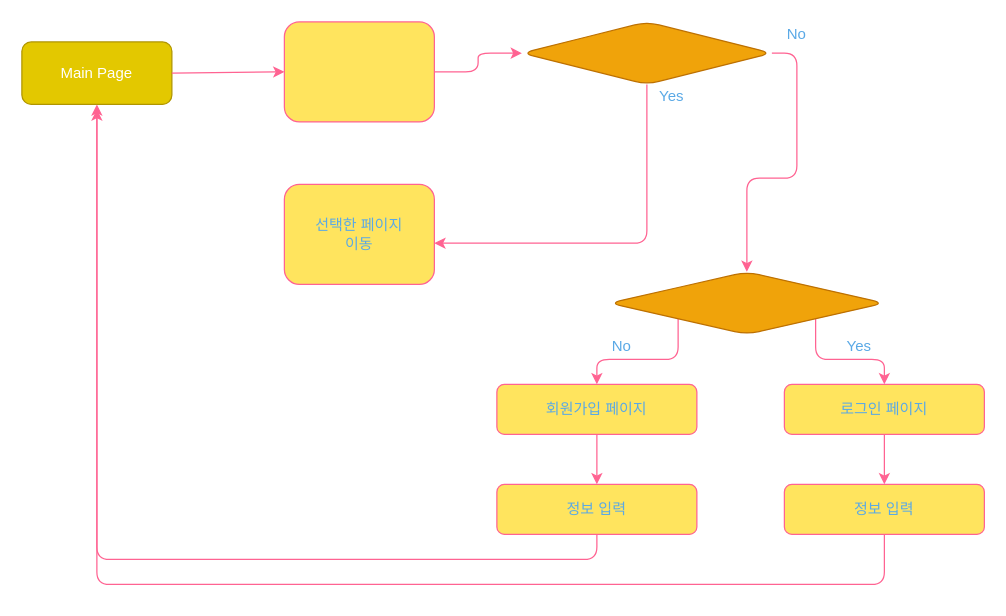
This 1006x616 diagram has some shape labels left out. The shapes that lost their labels are listed below. From the top down, each one's centre as x and y in pixels, then its label:
the point at 358,71: viewReview, viewShow, myInfo 등 메뉴 클릭
the point at 646,52: 로그인 했는가?
the point at 746,302: 회원인가?
